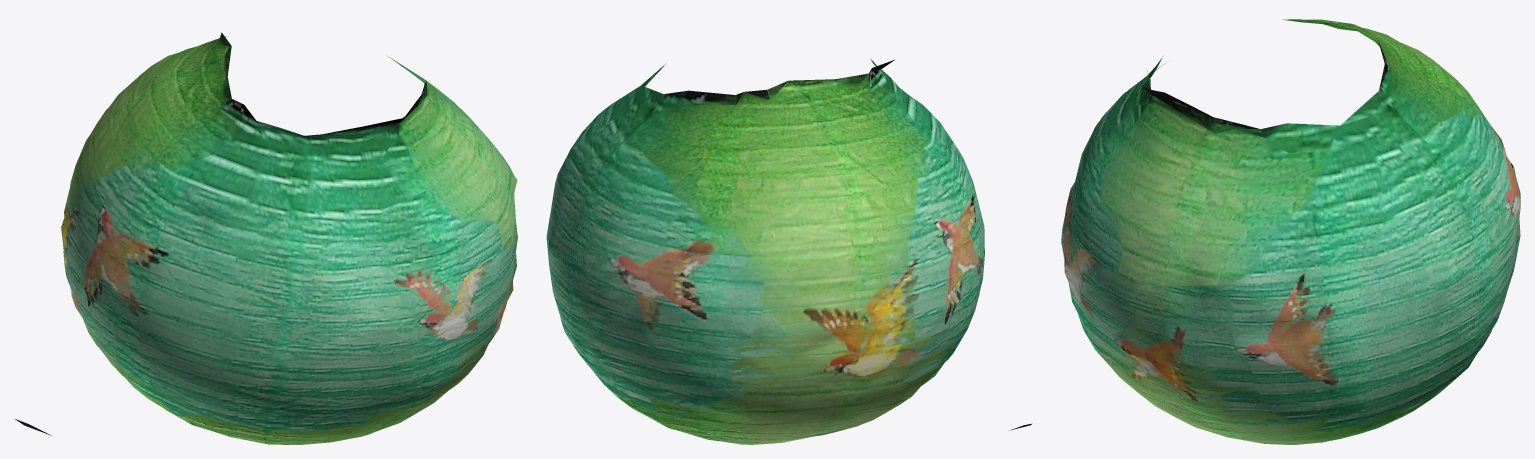
The model's file is AH1 Felix Birds.glb.
The picture shows the model from 3 angles, left to right: view 1: azimuth 30°, elevation 25°; view 2: azimuth 150°, elevation 25°; view 3: azimuth 270°, elevation 25°; orthographic projection. The views are drawn at different scales.
Bounding box in the file's own units: 1000 × 753 × 840.
1 material, 1 textured.
